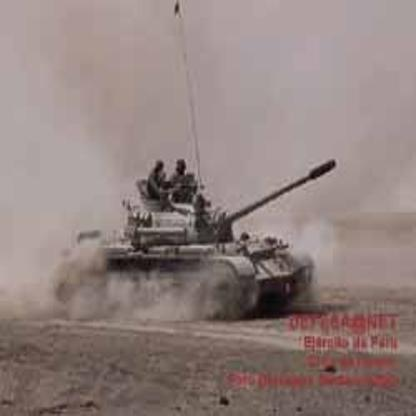Tank: (55, 147, 349, 321)
